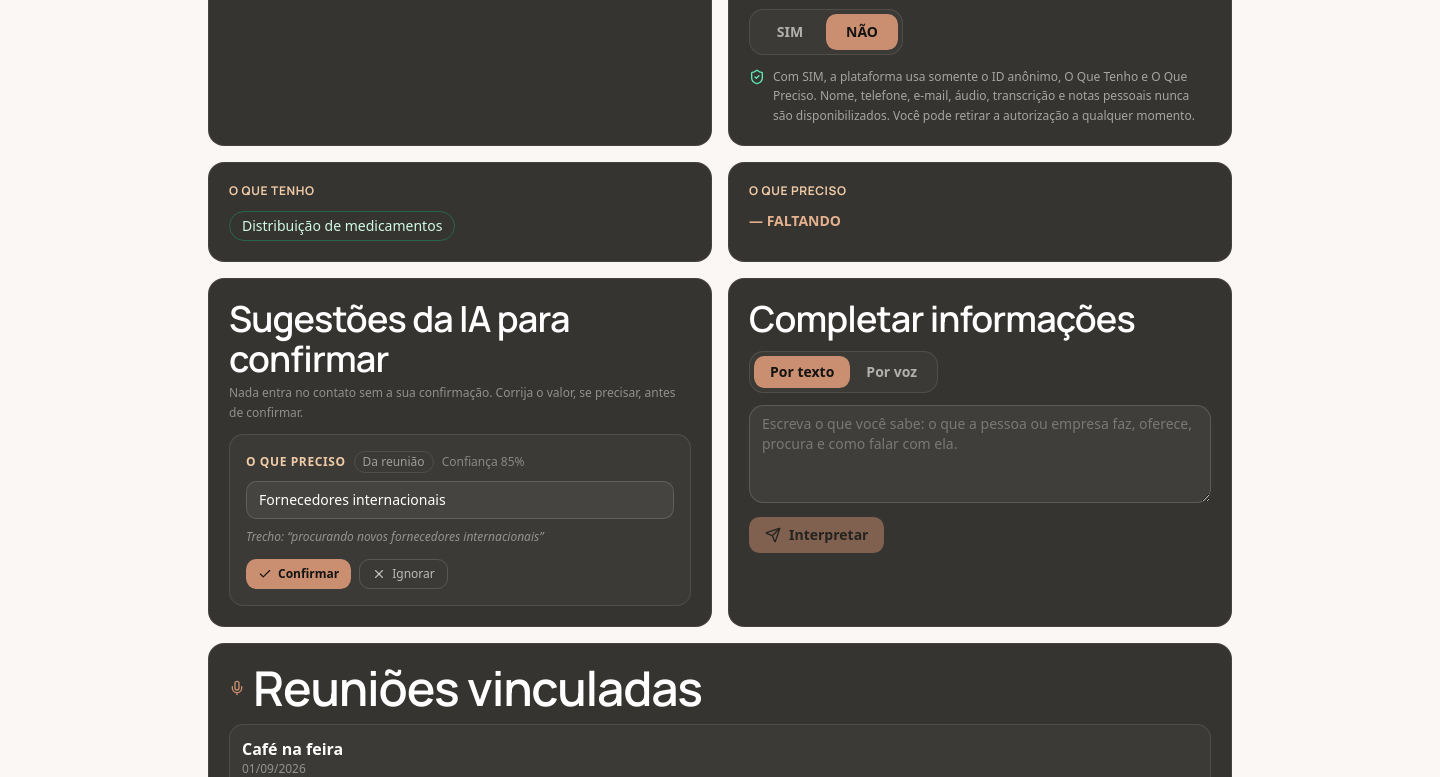
Test: perfil do contato — completar por voz › sair da tela gravando para o gravador e o microfone e NÃO envia o áudio
The width and height of the screenshot is (1440, 777).
(page scrolled)
Click the tab "Por voz". click: (892, 372)
box: x1=850 y1=356 x2=933 y2=388
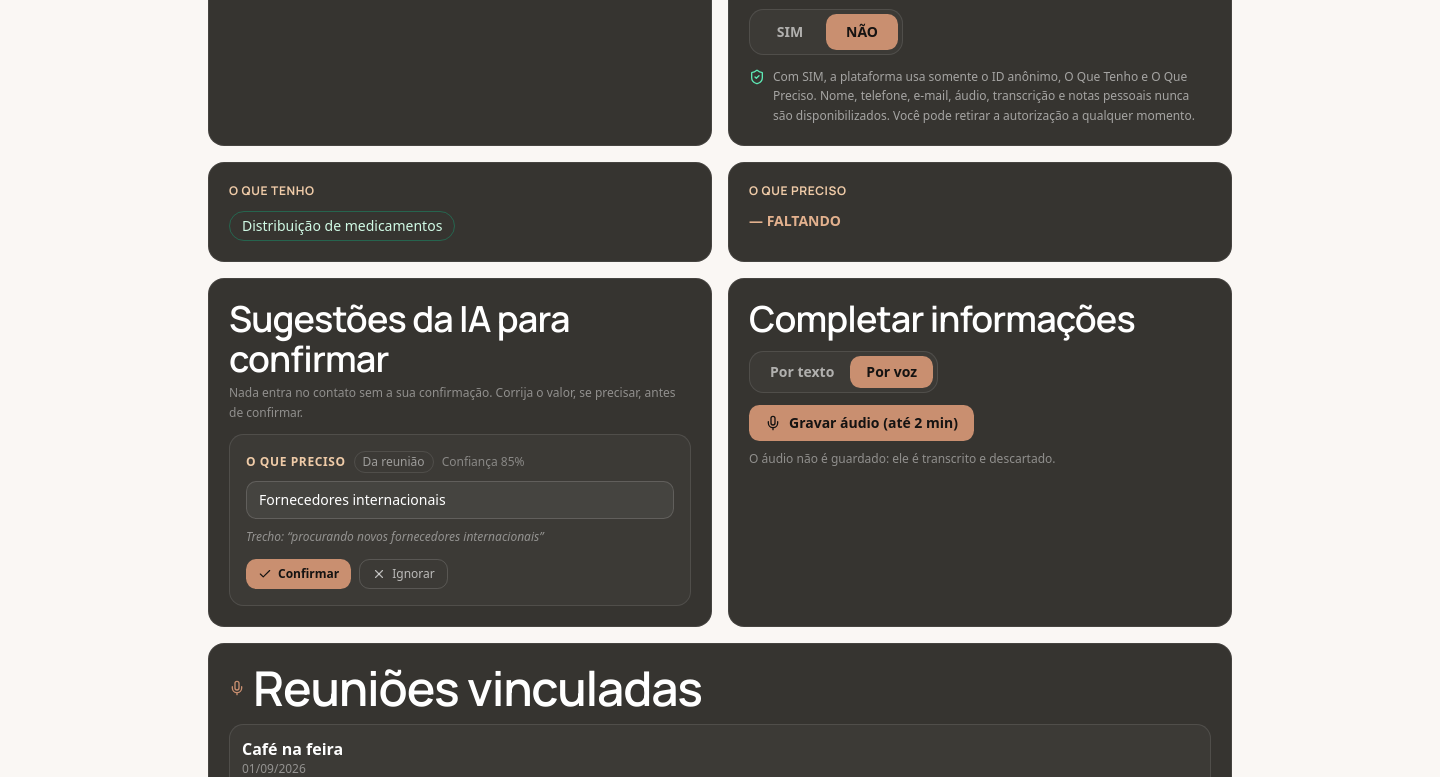
Click the button "Gravar áudio (até 2 min)". click: (862, 423)
box: x1=749 y1=405 x2=974 y2=441
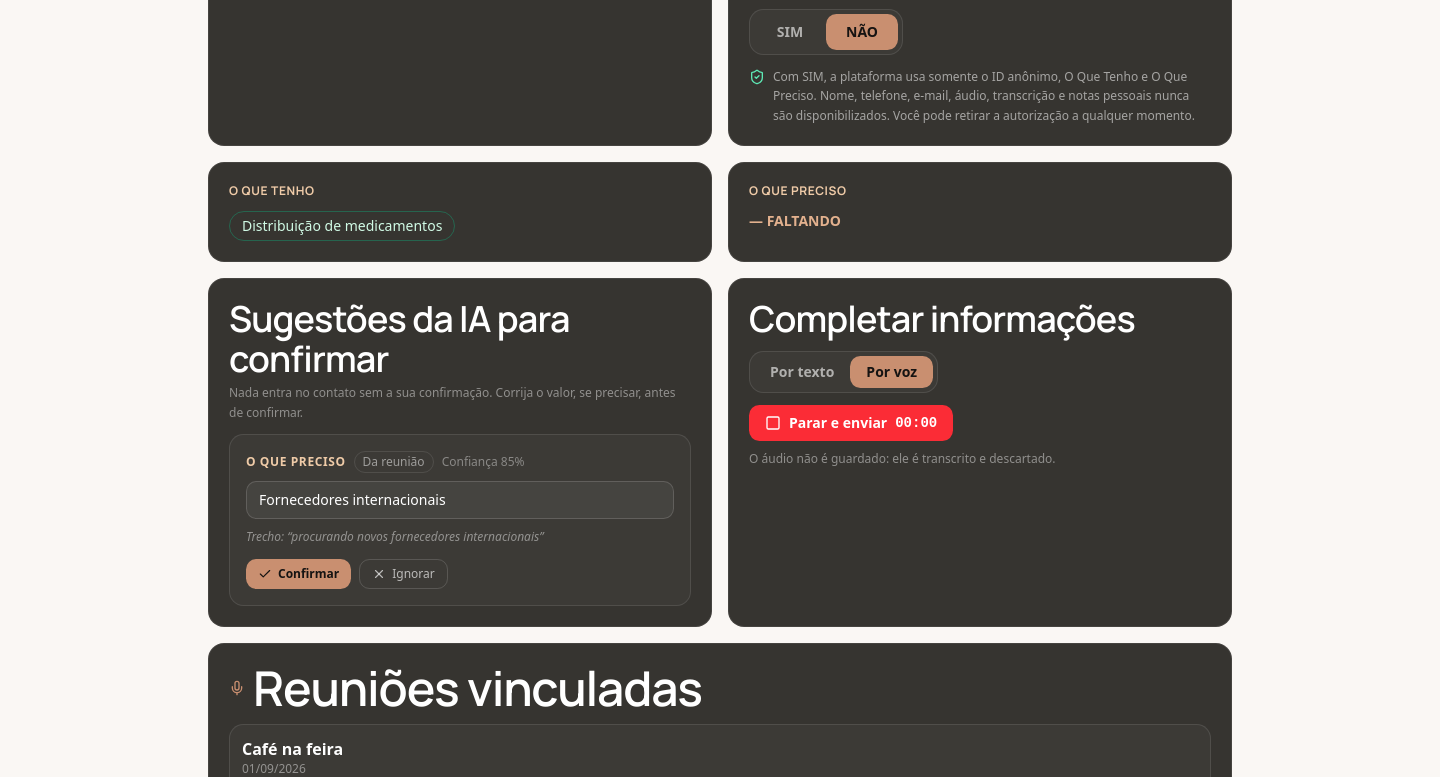
Expected: the button "Parar e enviar 00:00" is shown, x1=749 y1=405 x2=953 y2=441
